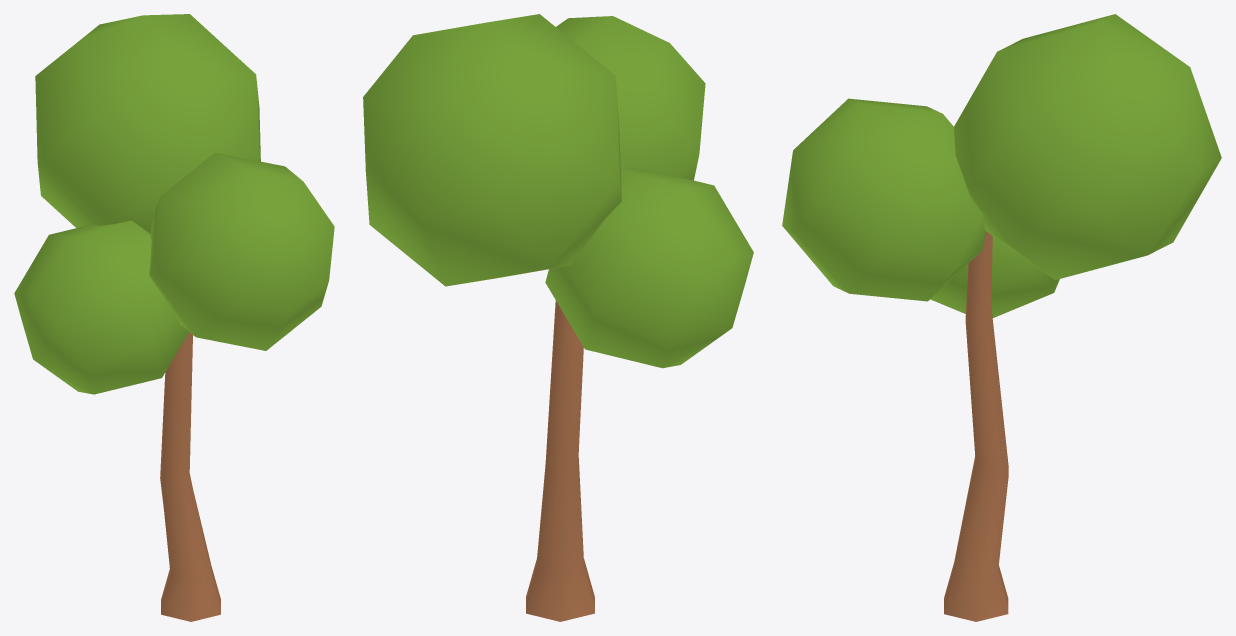
File: Tree.glb
3 renders of one model, left to right at view 1: azimuth 30°, elevation 25°; view 2: azimuth 150°, elevation 25°; view 3: azimuth 270°, elevation 25°, orthographic. The views are drawn at different scales.
Parts seen in each view (by area): view 1: tree_1; view 2: tree_1; view 3: tree_1.
Boxes of the visible parts, <box> form: tree_1: <box>14,14,334,621</box>; tree_1: <box>363,14,753,621</box>; tree_1: <box>782,14,1221,621</box>.
Bounding box in the file's own units: 1.06 × 2.01 × 1.36.
Materials: 1 (1 with a texture image).
